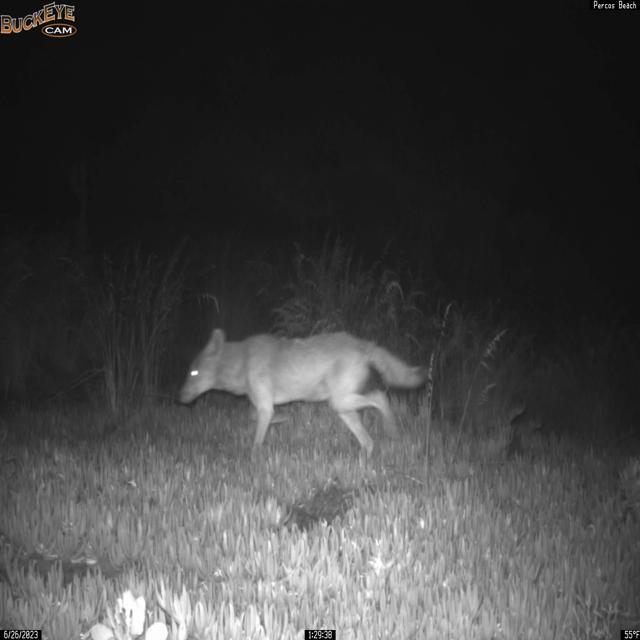coyote: (178, 327, 430, 462)
